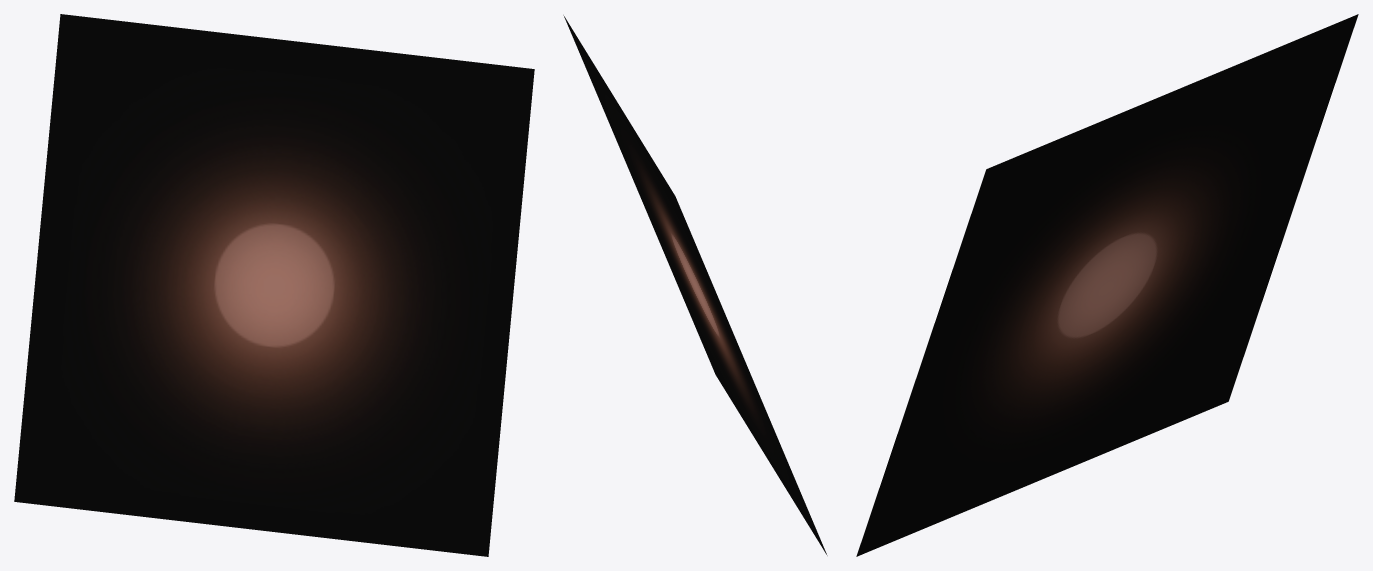
The model's file is Sky Sunset.fbx.
The picture shows the model from 3 angles, left to right: view 1: azimuth 30°, elevation 25°; view 2: azimuth 150°, elevation 25°; view 3: azimuth 270°, elevation 25°; orthographic projection. The views are drawn at different scales.
Visible parts, largest first — view 1: sun; view 2: sun; view 3: sun.
Boxes of the visible parts, x1=… form: sun: x1=14, y1=14, x2=534, y2=556; sun: x1=563, y1=15, x2=827, y2=555; sun: x1=856, y1=14, x2=1358, y2=556.
Size of what is drawn, in the model's own units: 71.57 by 70.15 by 72.03.
